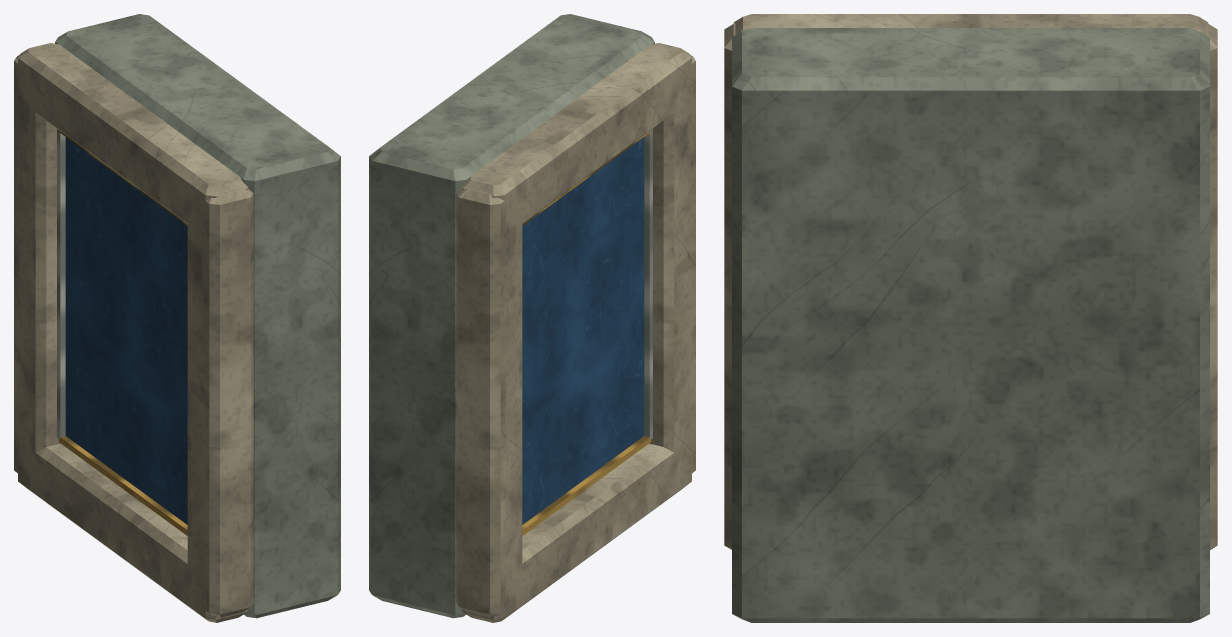
Rendered from b09_coin_stele.fbx.
The picture shows the model from 3 angles, left to right: view 1: azimuth 30°, elevation 25°; view 2: azimuth 150°, elevation 25°; view 3: azimuth 270°, elevation 25°; orthographic projection. The views are drawn at different scales.
Visible parts, largest first — view 1: b09_coin_stele; view 2: b09_coin_stele; view 3: b09_coin_stele.
Part boxes in pixels (x1,y1,x2,y2): b09_coin_stele: (14,14,340,622); b09_coin_stele: (369,14,695,622); b09_coin_stele: (724,14,1217,622).
Size of the model in its own units: 6100 by 15900 by 19400.
